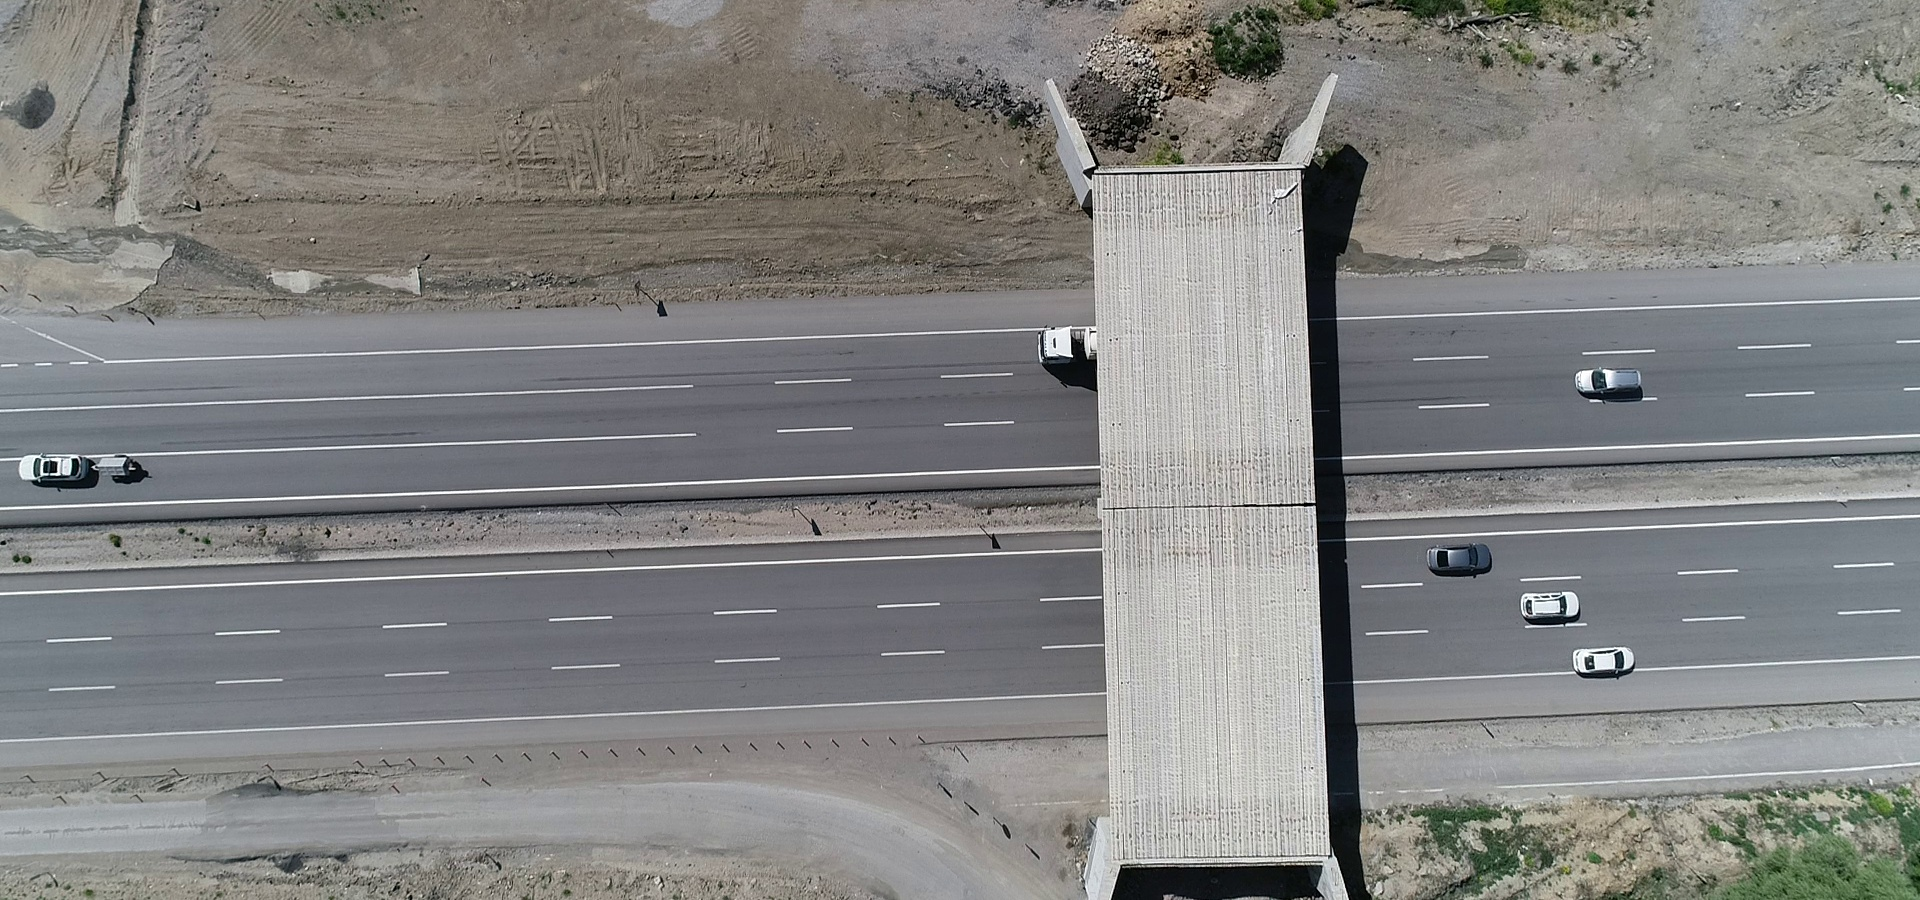arac: (1032, 306, 1093, 369), (10, 447, 98, 490), (1569, 362, 1660, 403), (1517, 587, 1587, 633), (1419, 538, 1501, 576), (1567, 647, 1637, 681)
